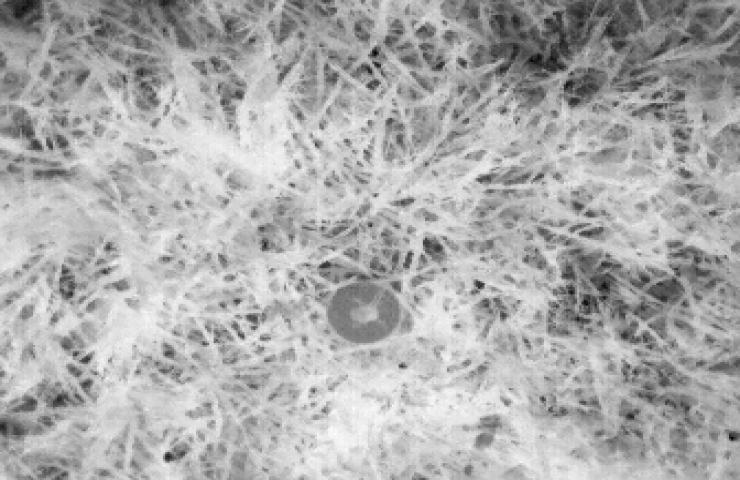landmines: (325, 277, 412, 350)
